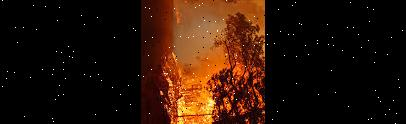fire: (169, 65, 265, 124)
